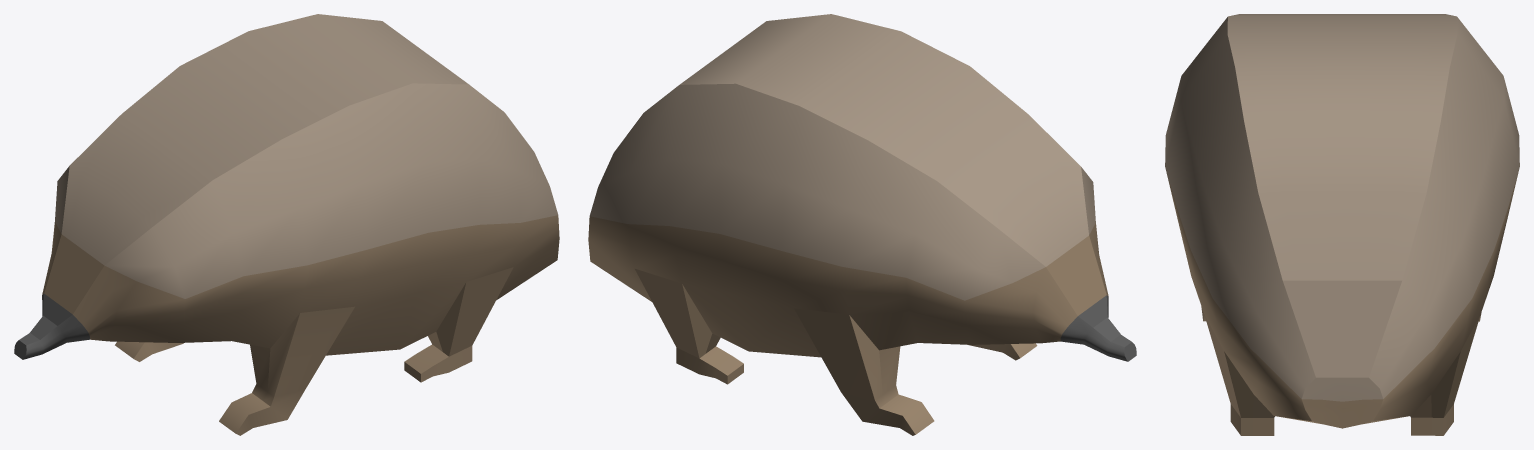
Rendered from Echidna.fbx.
3 views of the same model, side by side, from view 1: azimuth 30°, elevation 25°; view 2: azimuth 150°, elevation 25°; view 3: azimuth 270°, elevation 25° (orthographic). The views are drawn at different scales.
Parts seen in each view (by area): view 1: Echidna; view 2: Echidna; view 3: Echidna.
Boxes of the visible parts, x1,y1,x2,y2 form: Echidna: (14,14,559,435); Echidna: (588,14,1136,435); Echidna: (1165,14,1519,435).
Bounding box in the file's own units: 4.48 × 2.45 × 2.32.
